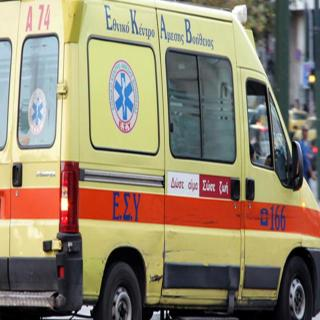Ambulance: (2, 2, 320, 320)
